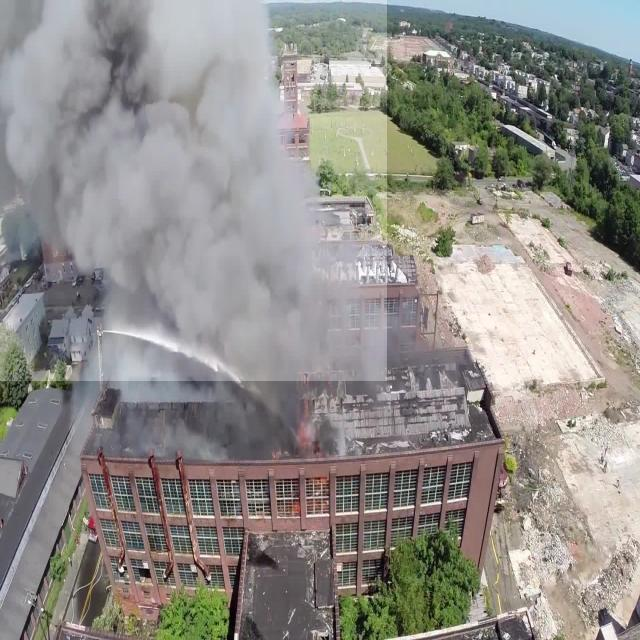Smoke: (0, 0, 387, 381)
